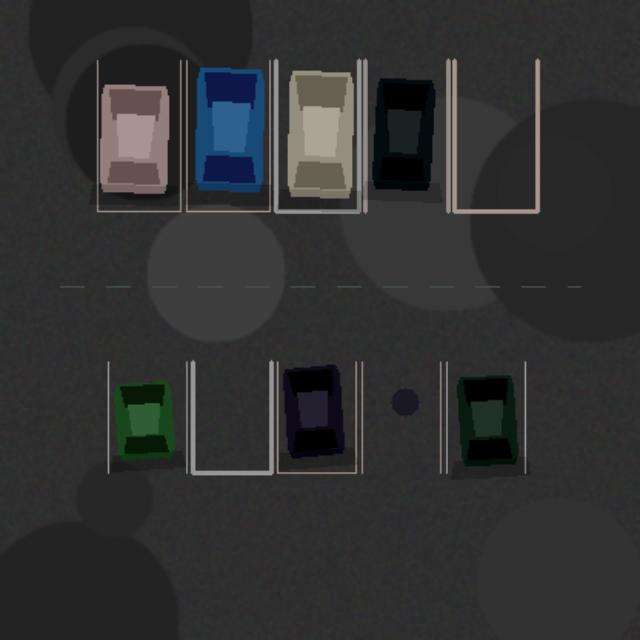space-empty: (454, 60, 537, 211), (192, 362, 271, 472), (362, 362, 440, 472)
space-occupied: (97, 60, 180, 211), (186, 60, 269, 211), (275, 60, 358, 211), (365, 60, 448, 211), (446, 362, 525, 472), (108, 362, 186, 472), (277, 362, 355, 472)
